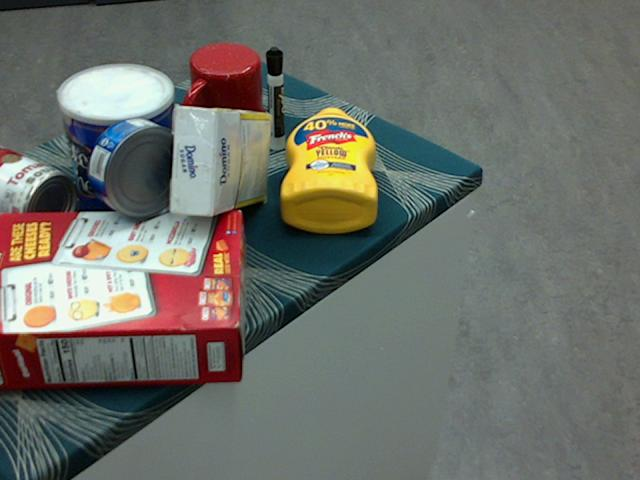cracker_box: (0, 210, 245, 386)
large_marker: (266, 46, 283, 151)
master_chef_can: (58, 65, 180, 245)
mug: (179, 44, 267, 141)
mustard_bottle: (281, 106, 378, 232)
potted_meat_can: (63, 97, 168, 185)
sugar_box: (170, 108, 269, 218)
tomato_soup_can: (0, 142, 76, 237)
tuna_fish_can: (87, 117, 189, 219)
